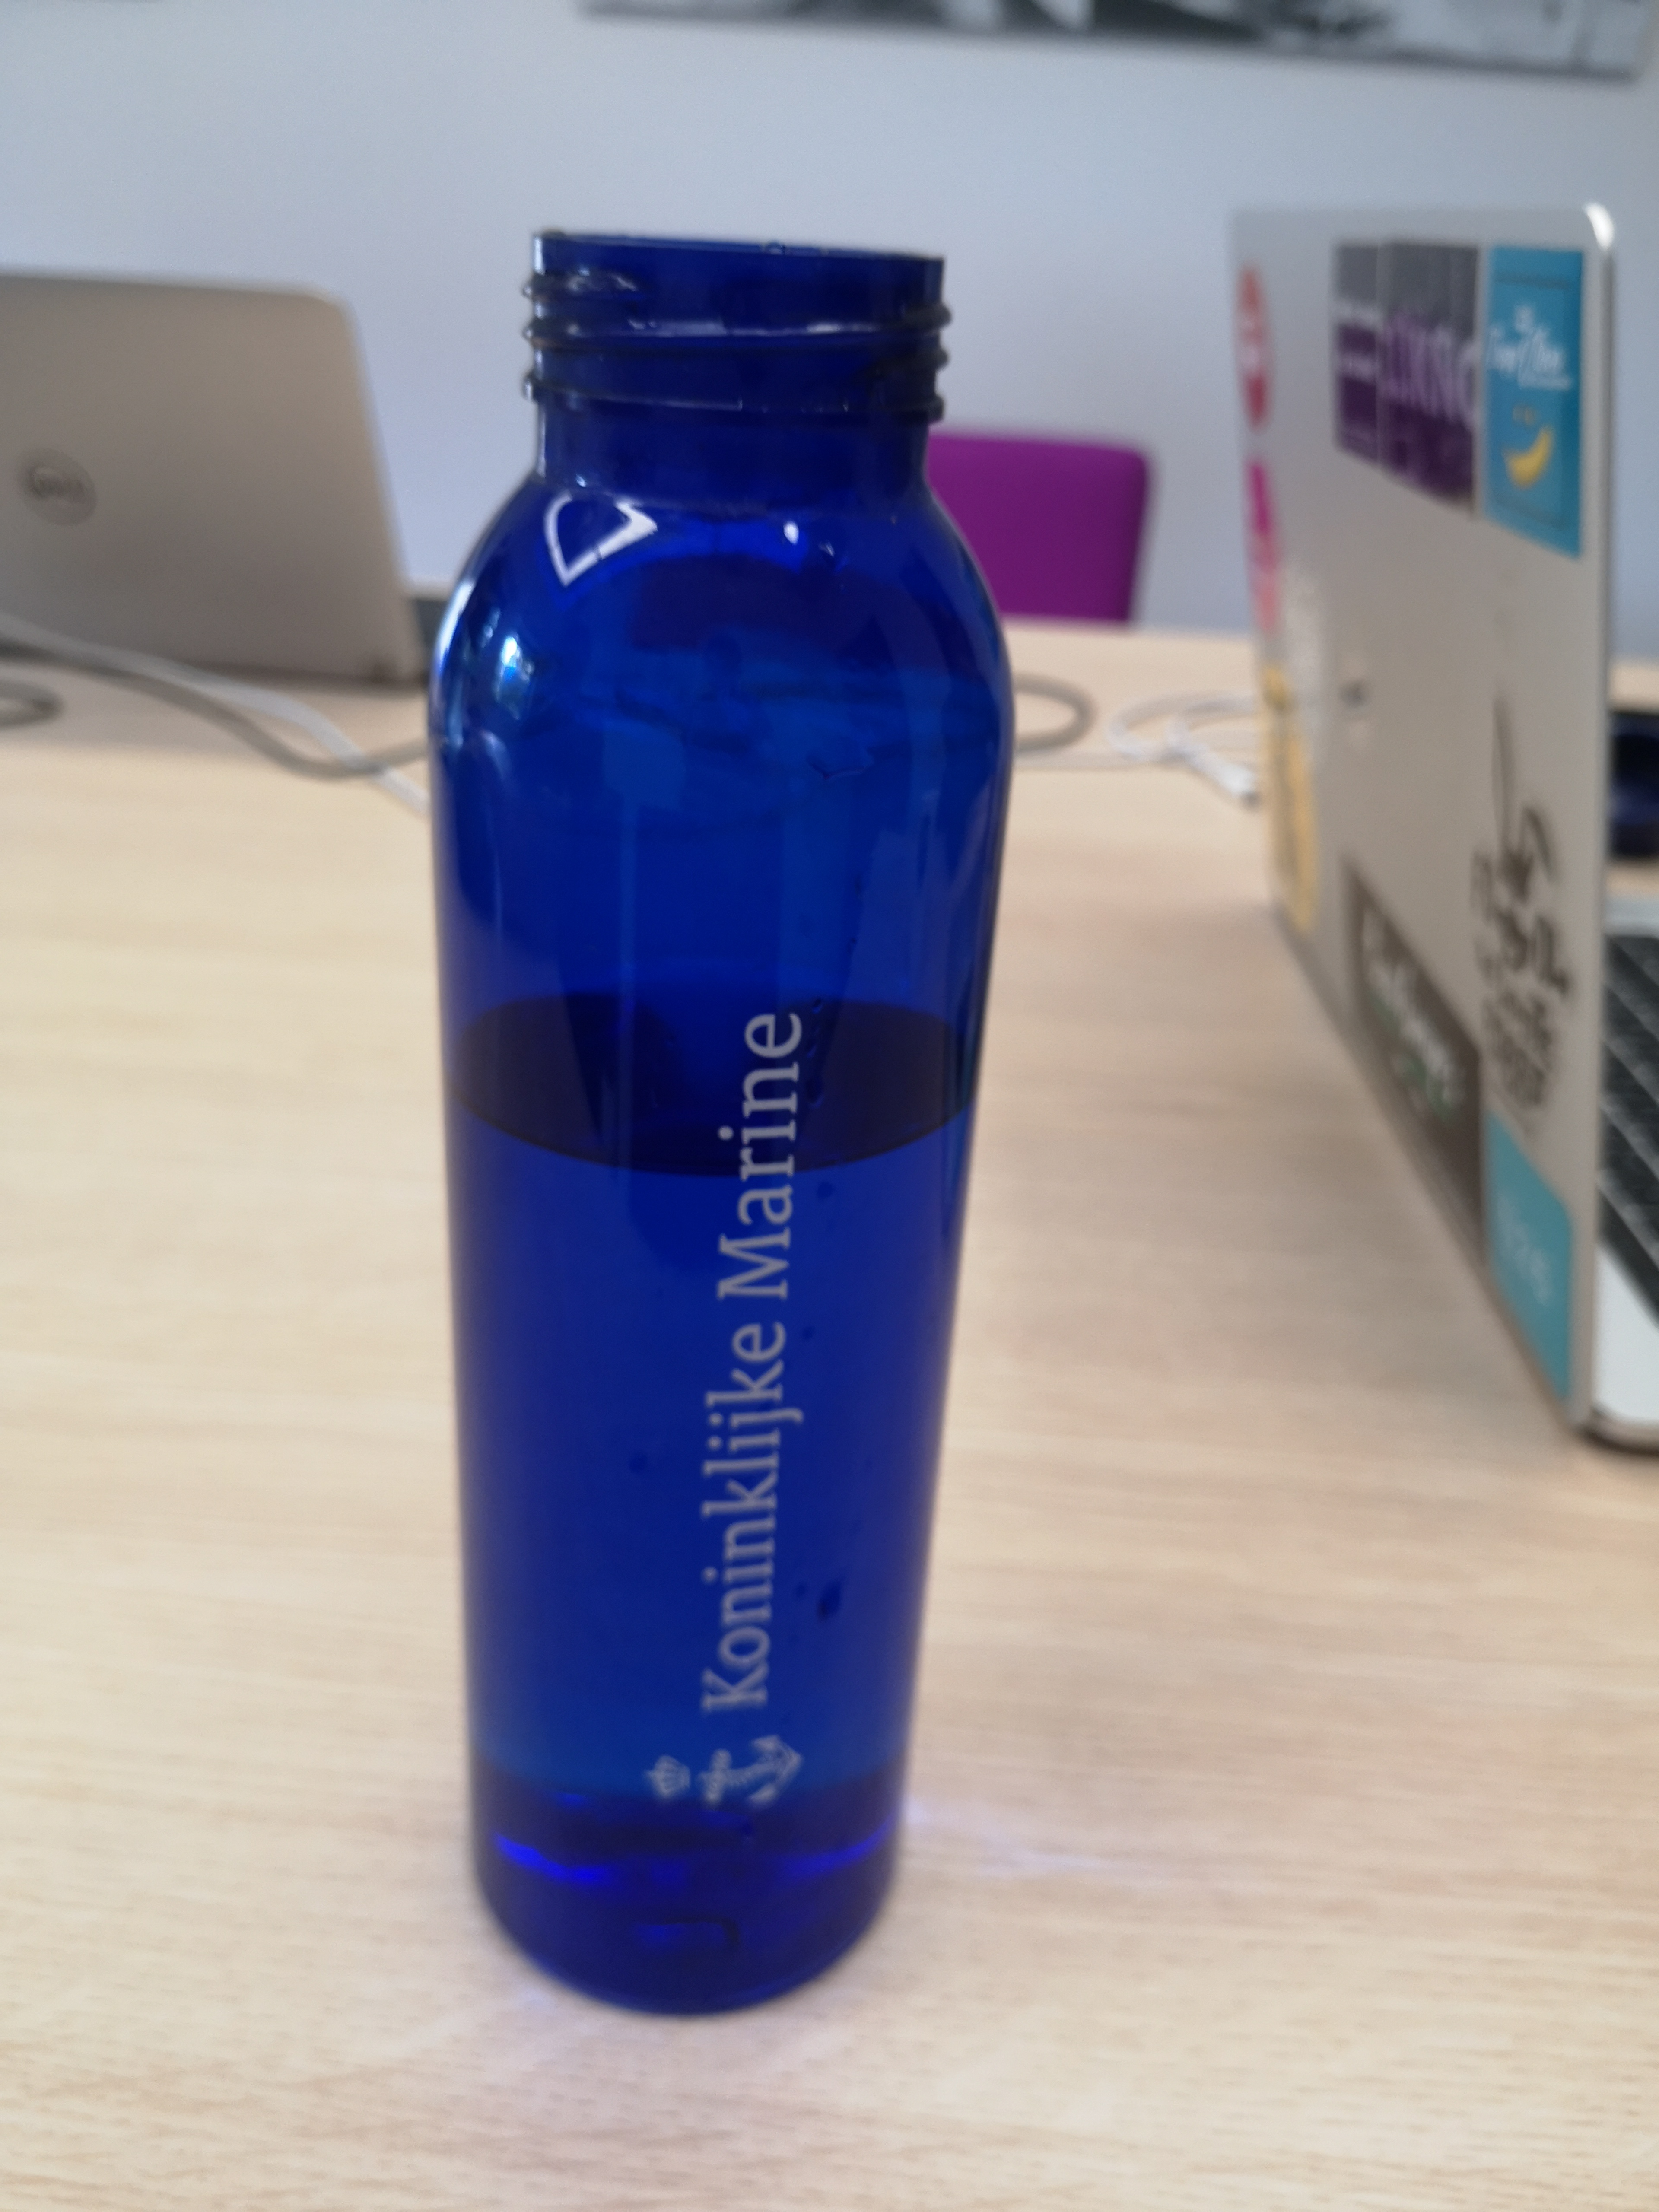plastic_bottle: (401, 181, 1053, 2041)
